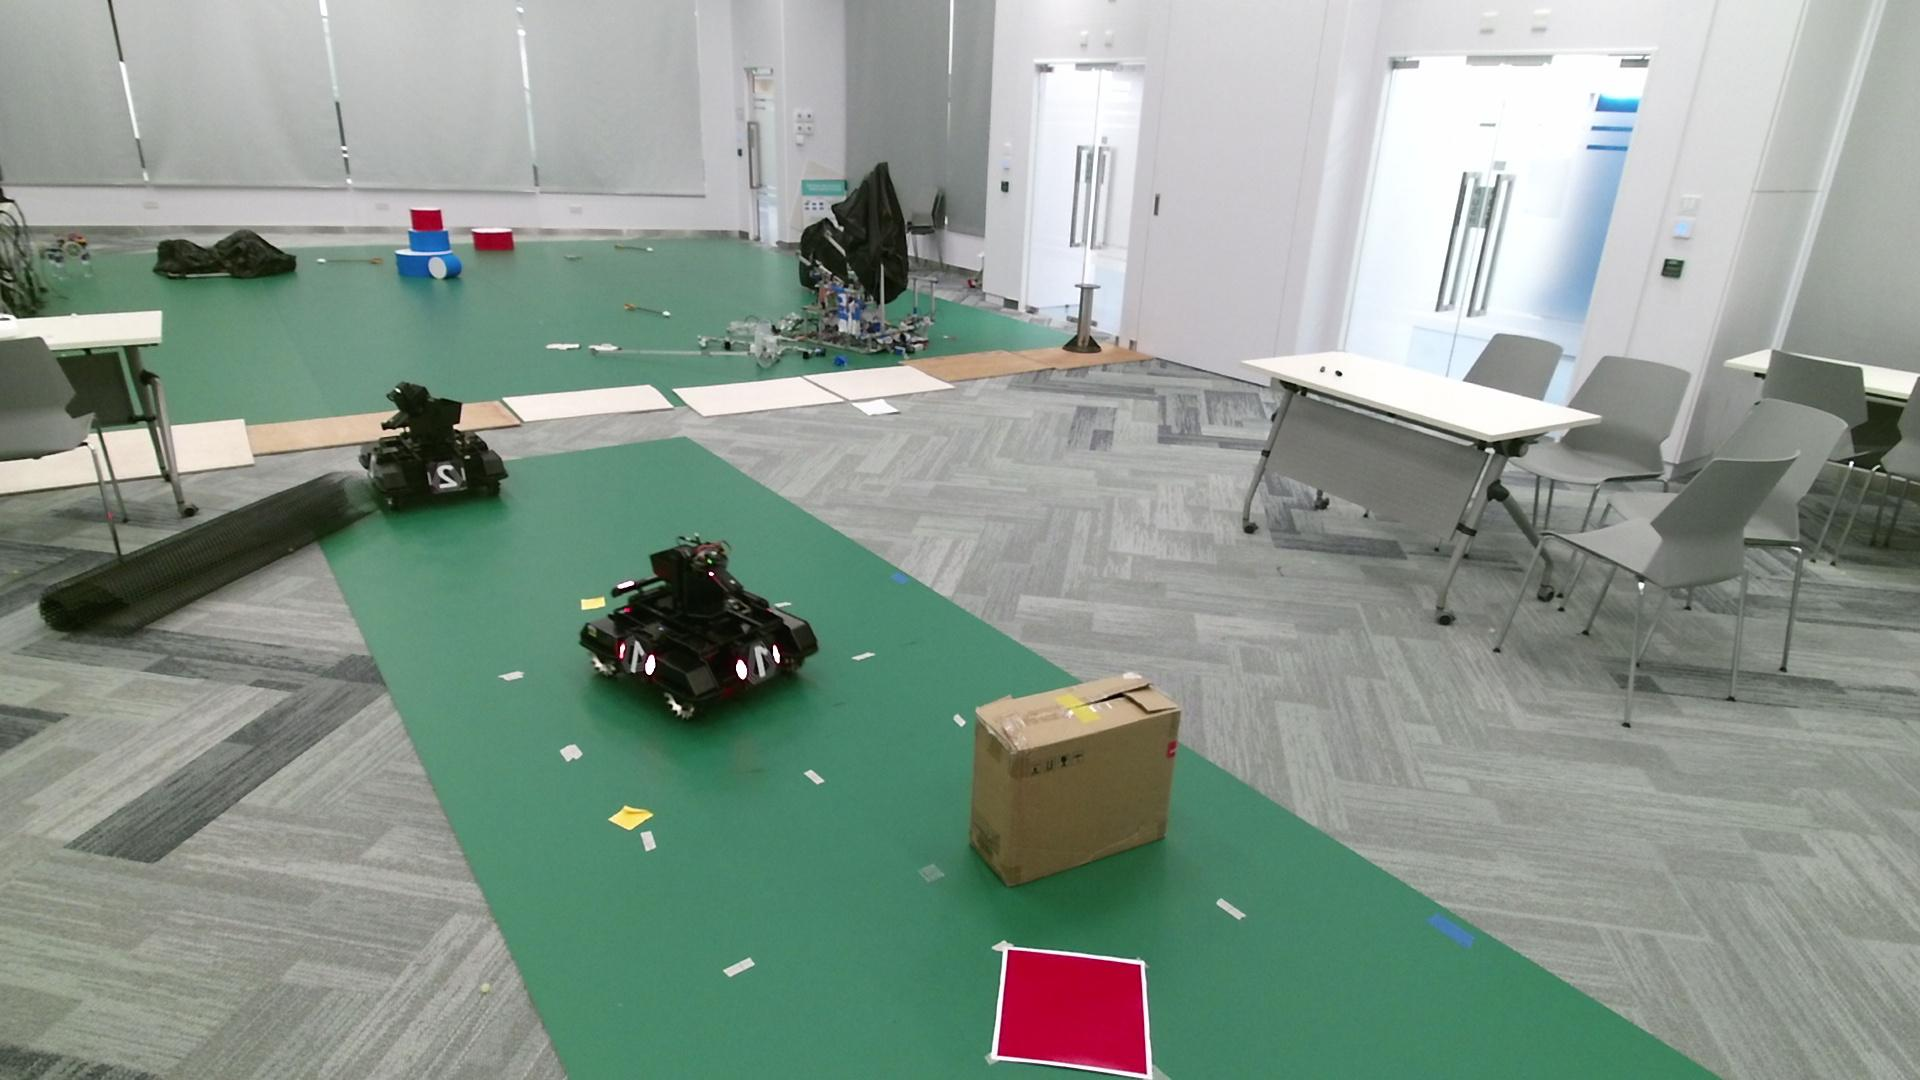robot: (578, 531, 818, 723), (357, 380, 509, 513)
